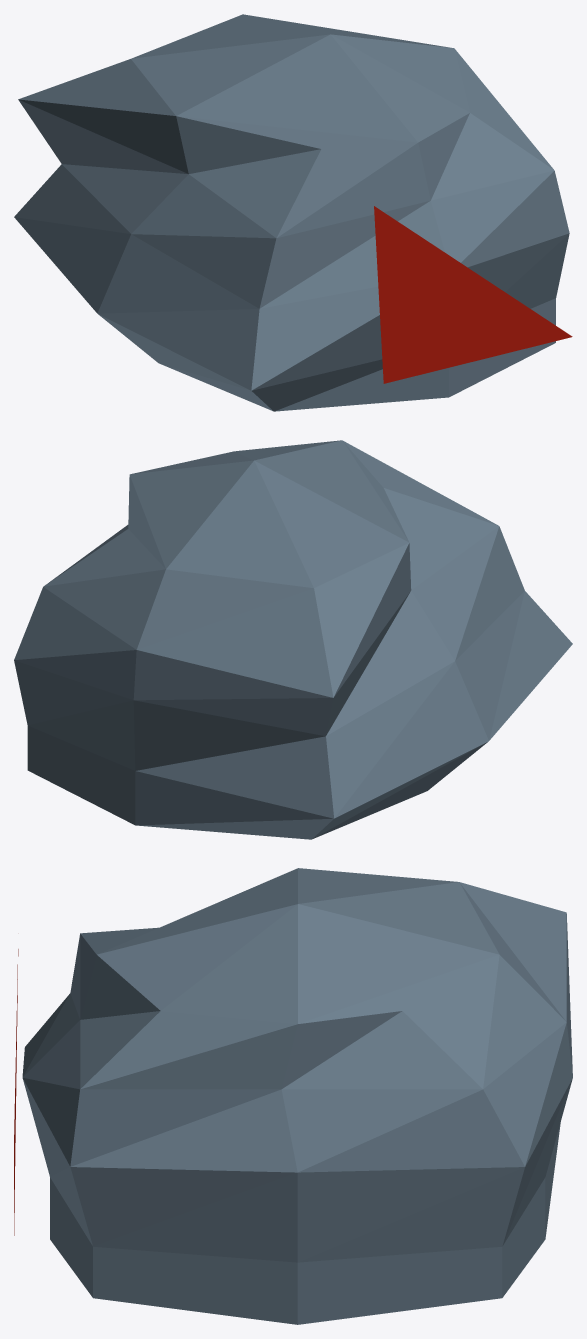
The picture shows the model from 3 angles, top to bottom: view 1: azimuth 30°, elevation 25°; view 2: azimuth 150°, elevation 25°; view 3: azimuth 270°, elevation 25°; orthographic projection. The views are drawn at different scales.
Bounding box in the file's own units: 0.3051 × 0.2075 × 0.319.
2 materials, 2 textured.
